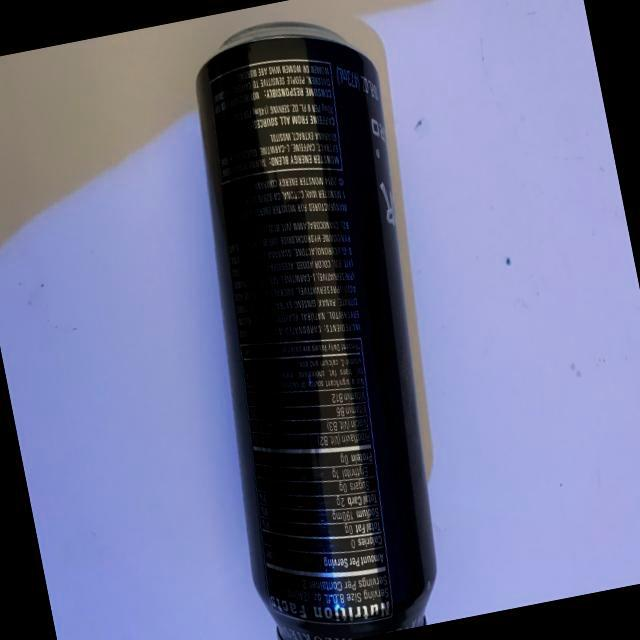metal: (135, 1, 507, 640)
